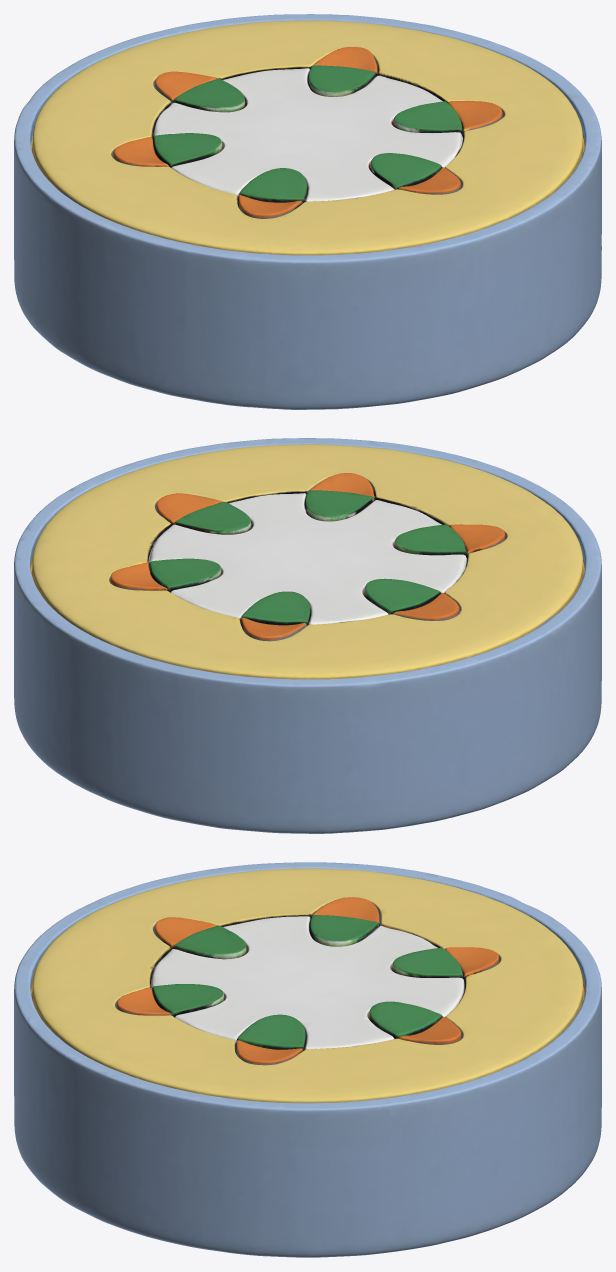
Rendered from Primary+Growth.glb.
3 renders of one model, top to bottom at view 1: azimuth 30°, elevation 25°; view 2: azimuth 150°, elevation 25°; view 3: azimuth 270°, elevation 25°, orthographic.
Parts seen in each view (by area): view 1: tripo_node_81ec8bba-9cbc-448a-a239-e3b379675769; view 2: tripo_node_81ec8bba-9cbc-448a-a239-e3b379675769; view 3: tripo_node_81ec8bba-9cbc-448a-a239-e3b379675769.
Part boxes in pixels (x1,y1,x2,y2): tripo_node_81ec8bba-9cbc-448a-a239-e3b379675769: (14,14,601,409); tripo_node_81ec8bba-9cbc-448a-a239-e3b379675769: (14,438,601,833); tripo_node_81ec8bba-9cbc-448a-a239-e3b379675769: (14,862,601,1257).
Size of the model in its own units: 0.9998 by 0.3063 by 1.
1 material, 1 textured.
